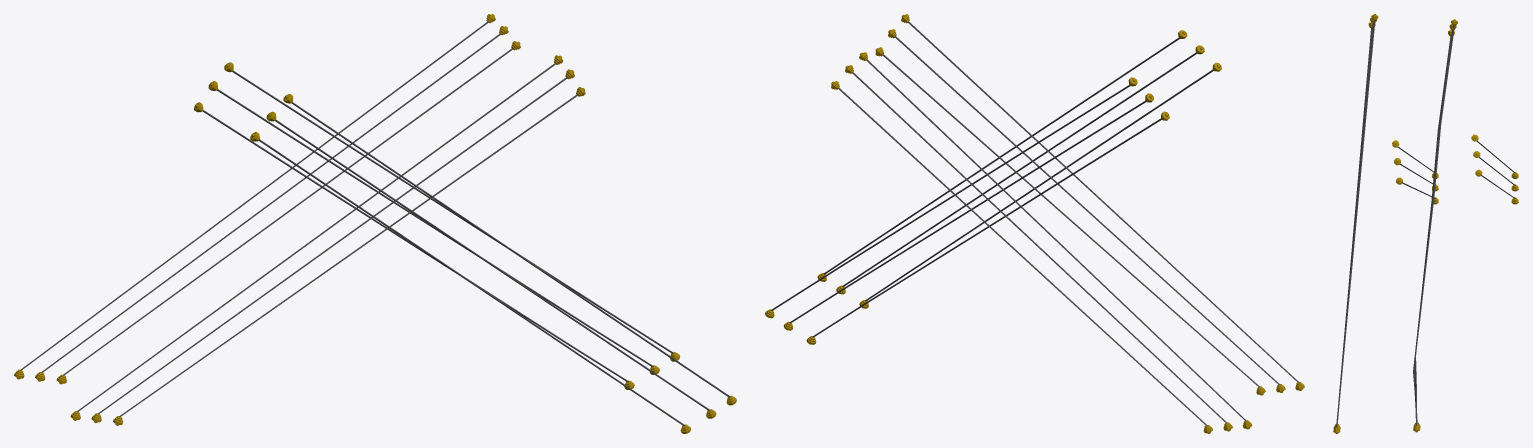
File: Halterung7.fbx
The picture shows the model from 3 angles, left to right: view 1: azimuth 30°, elevation 25°; view 2: azimuth 150°, elevation 25°; view 3: azimuth 270°, elevation 25°; orthographic projection. The views are drawn at different scales.
Parts seen in each view (by area): view 1: LoopingHalterung1; view 2: LoopingHalterung1; view 3: LoopingHalterung1.
Boxes of the visible parts, box(x1,y1,x2,y2) form: LoopingHalterung1: box(14, 14, 736, 433); LoopingHalterung1: box(765, 14, 1304, 433); LoopingHalterung1: box(1333, 14, 1518, 433).
Bounding box in the file's own units: 27534 × 18122 × 10541.
